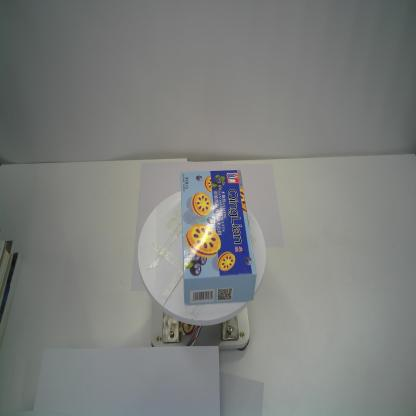Dessert: (180, 169, 257, 306)
